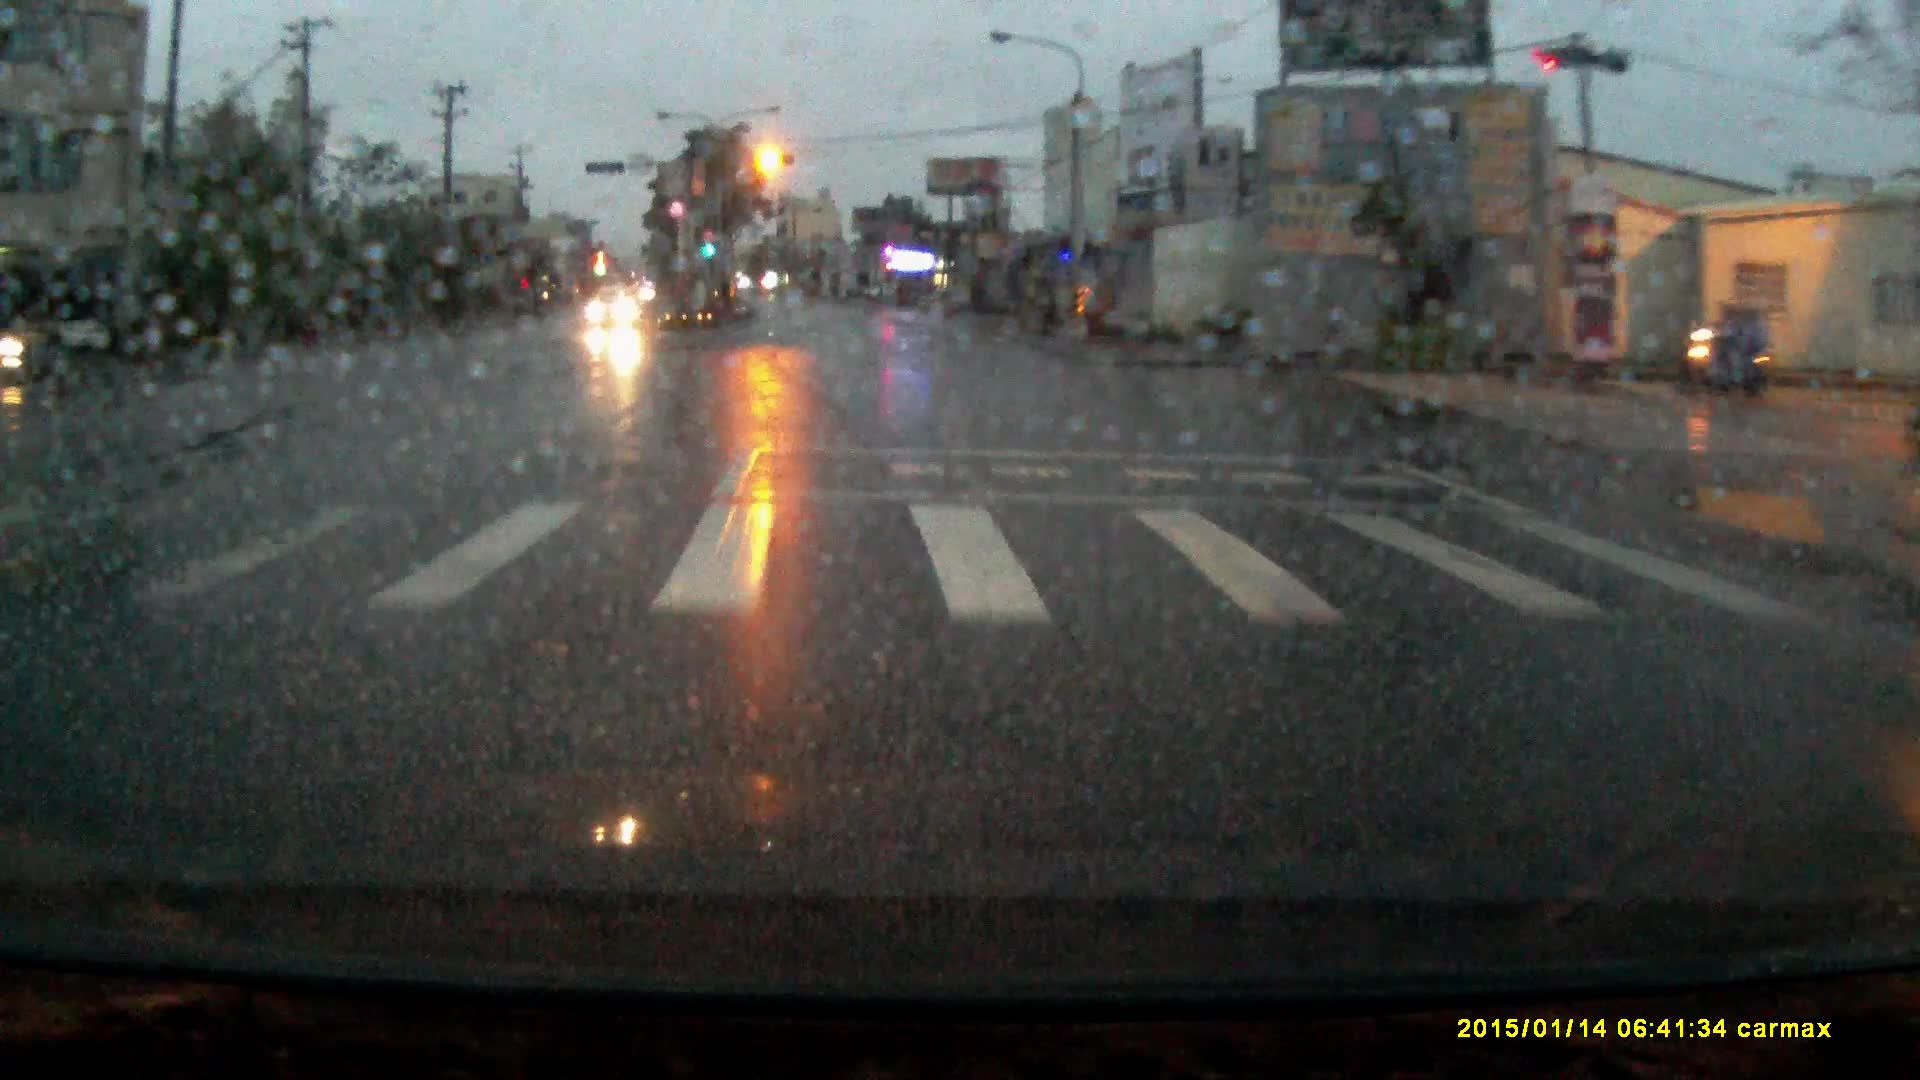rider: (1683, 294, 1769, 403), (1, 298, 46, 387)
vehicle: (587, 292, 647, 334)
